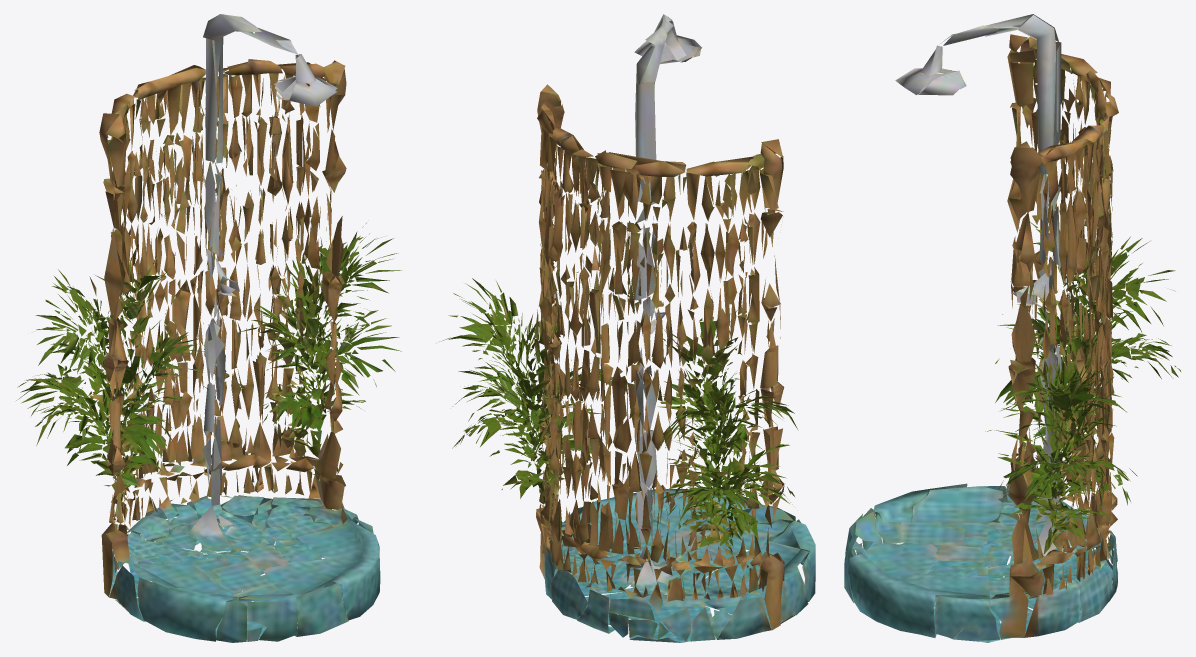
File: pool-shower.glb
The picture shows the model from 3 angles, left to right: view 1: azimuth 30°, elevation 25°; view 2: azimuth 150°, elevation 25°; view 3: azimuth 270°, elevation 25°; orthographic projection. The views are drawn at different scales.
Visible parts, largest first — view 1: Mesh_0; view 2: Mesh_0; view 3: Mesh_0.
Part boxes in pixels (x1=…): Mesh_0: x1=16, y1=14, x2=401, y2=642; Mesh_0: x1=439, y1=14, x2=815, y2=642; Mesh_0: x1=844, y1=14, x2=1180, y2=642.
Size of the model in its own units: 1.23 by 1.9 by 1.02.
Materials: 1 (1 with a texture image).
